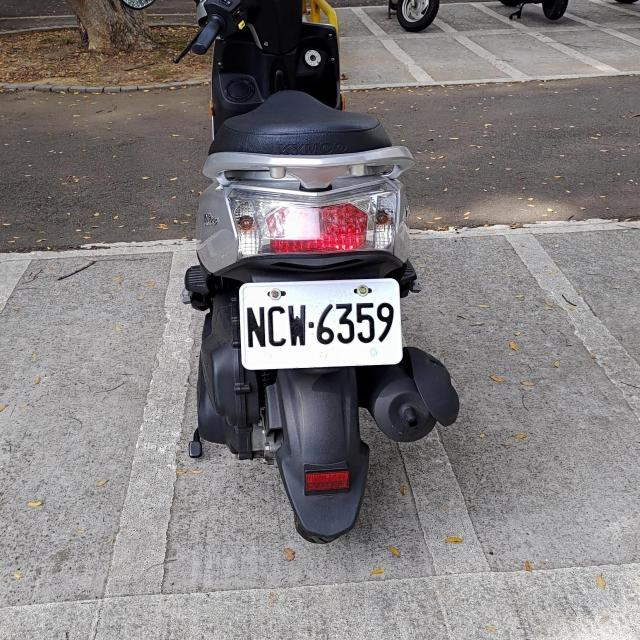W: (238, 278, 402, 368)
